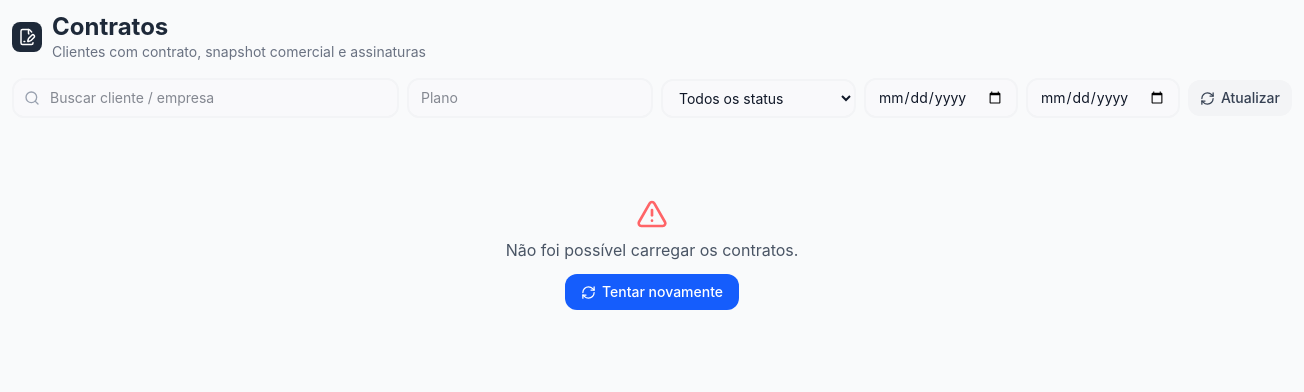
Test: PainelContratos (página real, API mockada) › 4. erro exibe retry e refaz a busca
The width and height of the screenshot is (1304, 392).
Expected: the text "Não foi possível carregar os contratos." is shown, [506,240,798,260]
Click the button "Tentar novamente".
click(652, 292)  # box [565,274,739,310]
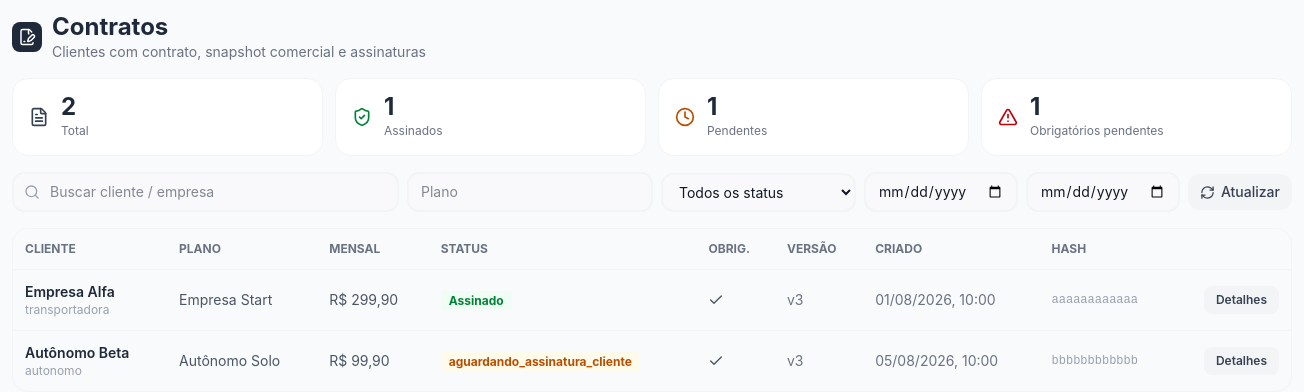
Expected: the text "Empresa Alfa" is shown, [25,283,115,300]
